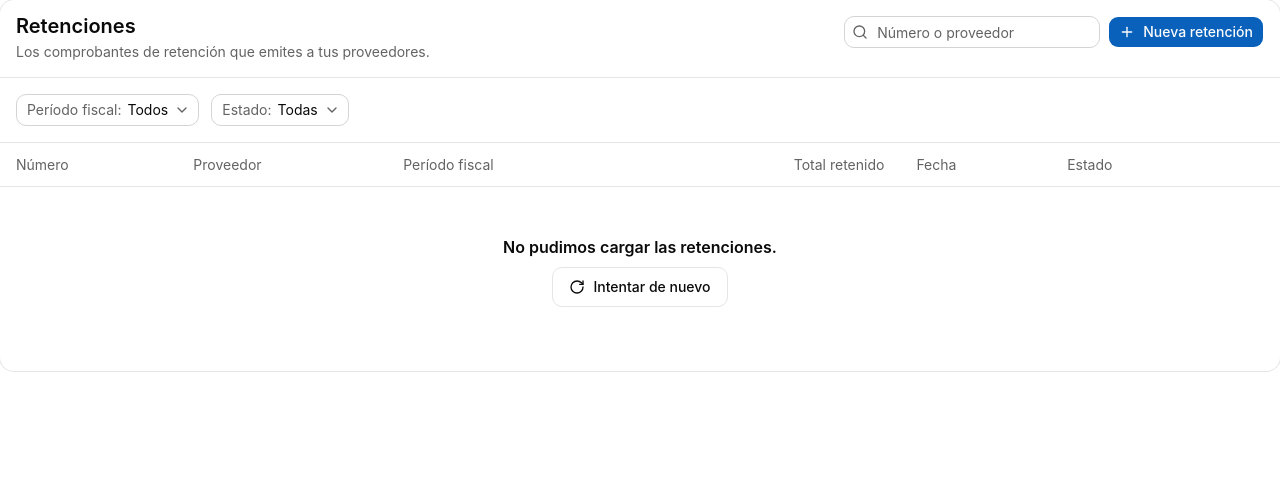
Scenario: pantalla Retenciones › vacía ofrece crear la primera; el error se reintenta
This screenshot has width=1280, height=481.
Expected: the text "No pudimos cargar las retenciones." is shown, 503,235 -> 777,259
Click the button "Intentar de nuevo" at x=640, y=287, box 552,267 -> 728,307
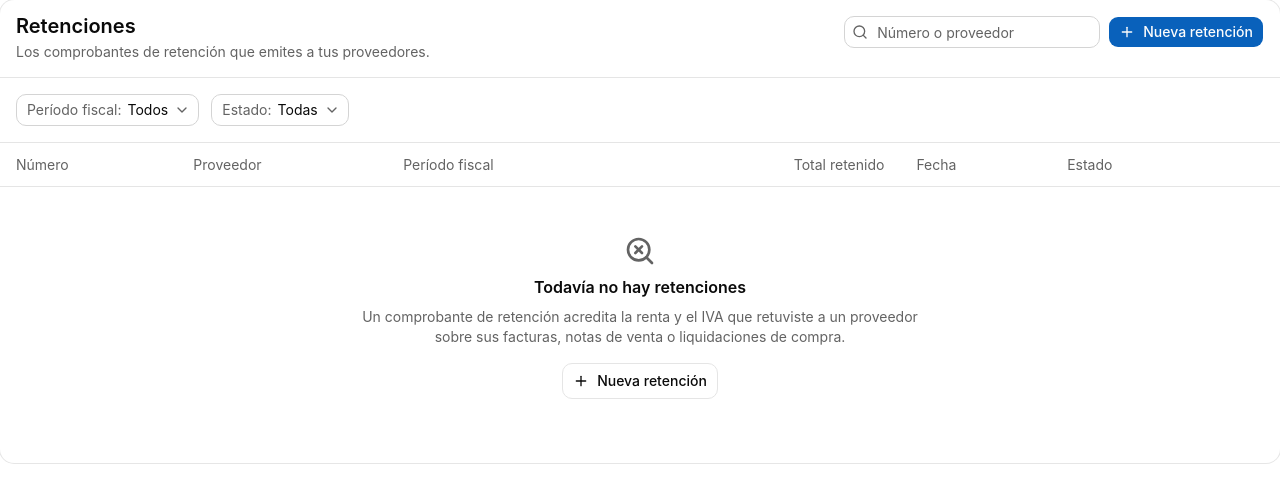
Now the text "Todavía no hay retenciones" is shown, box 534,275 -> 746,299
